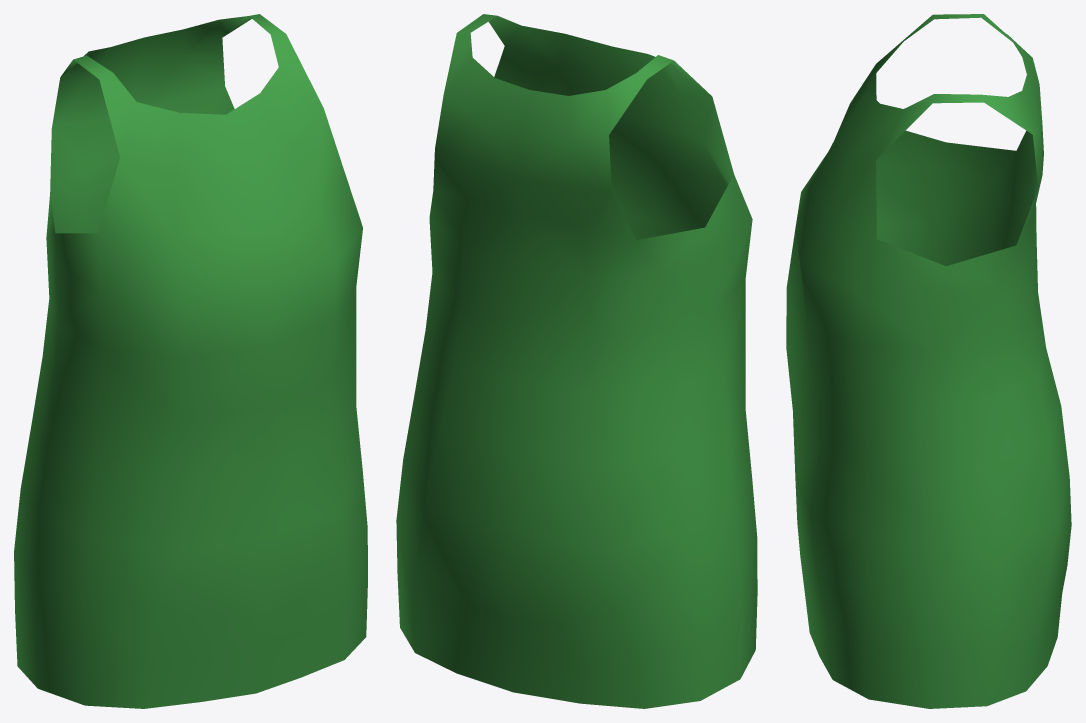
File: Outerwear_Green_008.glb
3 renders of one model, left to right at view 1: azimuth 30°, elevation 25°; view 2: azimuth 150°, elevation 25°; view 3: azimuth 270°, elevation 25°, orthographic. The views are drawn at different scales.
Visible parts, largest first — view 1: Outerwear_Green_008; view 2: Outerwear_Green_008; view 3: Outerwear_Green_008.
Part boxes in pixels (x1=…): Outerwear_Green_008: x1=14, y1=14, x2=367, y2=708; Outerwear_Green_008: x1=396, y1=14, x2=757, y2=708; Outerwear_Green_008: x1=786, y1=14, x2=1071, y2=708.
Bounding box in the file's own units: 0.4681 × 0.8466 × 0.3763.
1 material, 1 textured.
